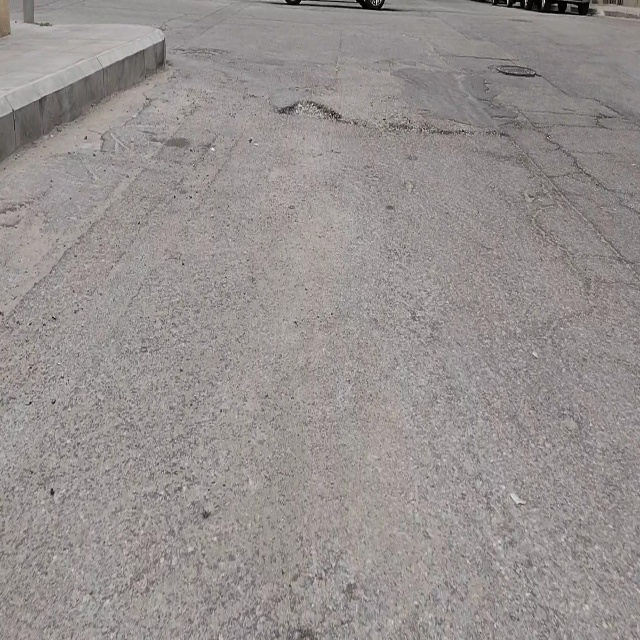pothole: (278, 101, 341, 121)
